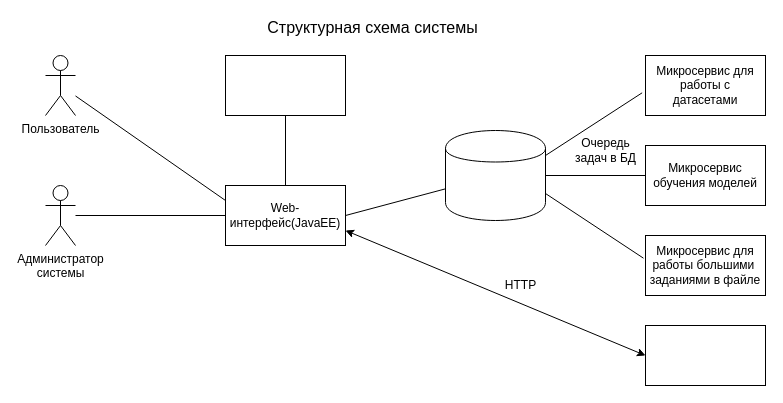
The diagram is 783 pixels wide and 403 high, and some of its shapes have lost their labels. Here are the shapes that lost their labels. From the top down, the centre of each, then its label:
At pixel 285 85: "Фронтенд (HTML5, CSS Framework Materialize, Javascript)".
At pixel 495 175: "БД (PostgreSQL)".
At pixel 705 355: "Микросервис для решения в реальном времени".
